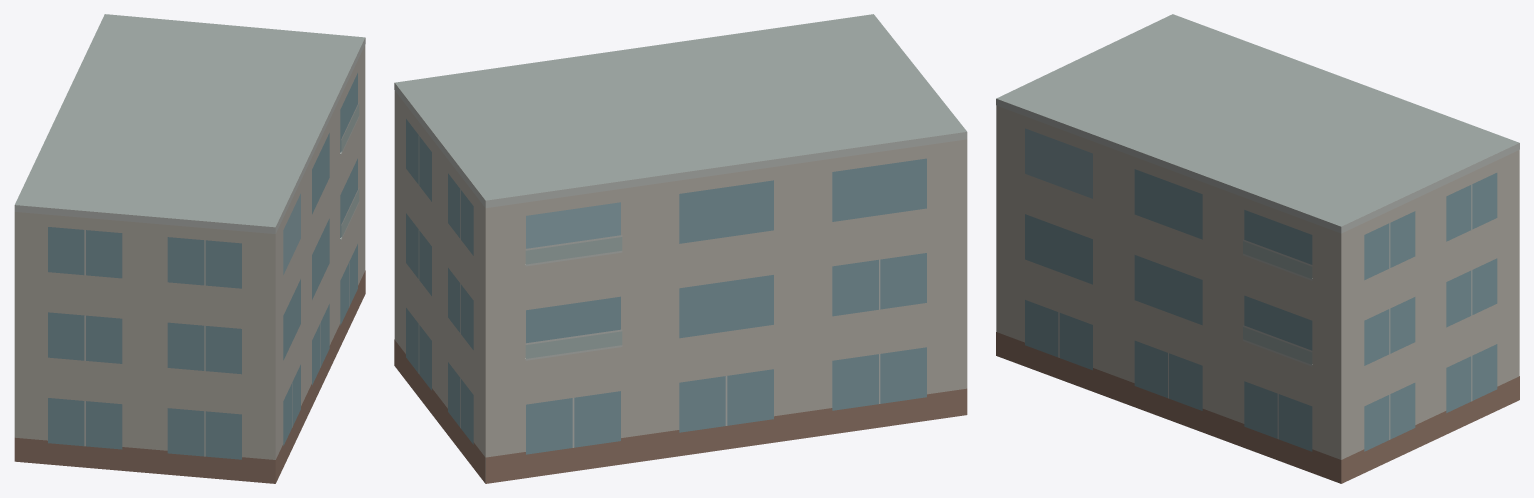
File: survey-upis-32994555.glb
3 renders of one model, left to right at view 1: azimuth 30°, elevation 25°; view 2: azimuth 150°, elevation 25°; view 3: azimuth 270°, elevation 25°, orthographic. The views are drawn at different scales.
Visible parts, largest first — view 1: survey-upis-32994555.tmp; view 2: survey-upis-32994555.tmp; view 3: survey-upis-32994555.tmp.
Part boxes in pixels (x1,y1,x2,y2): survey-upis-32994555.tmp: (14,14,365,483); survey-upis-32994555.tmp: (394,14,967,483); survey-upis-32994555.tmp: (996,14,1519,483).
Size of the model in its own units: 16.24 by 9.15 by 16.9.
